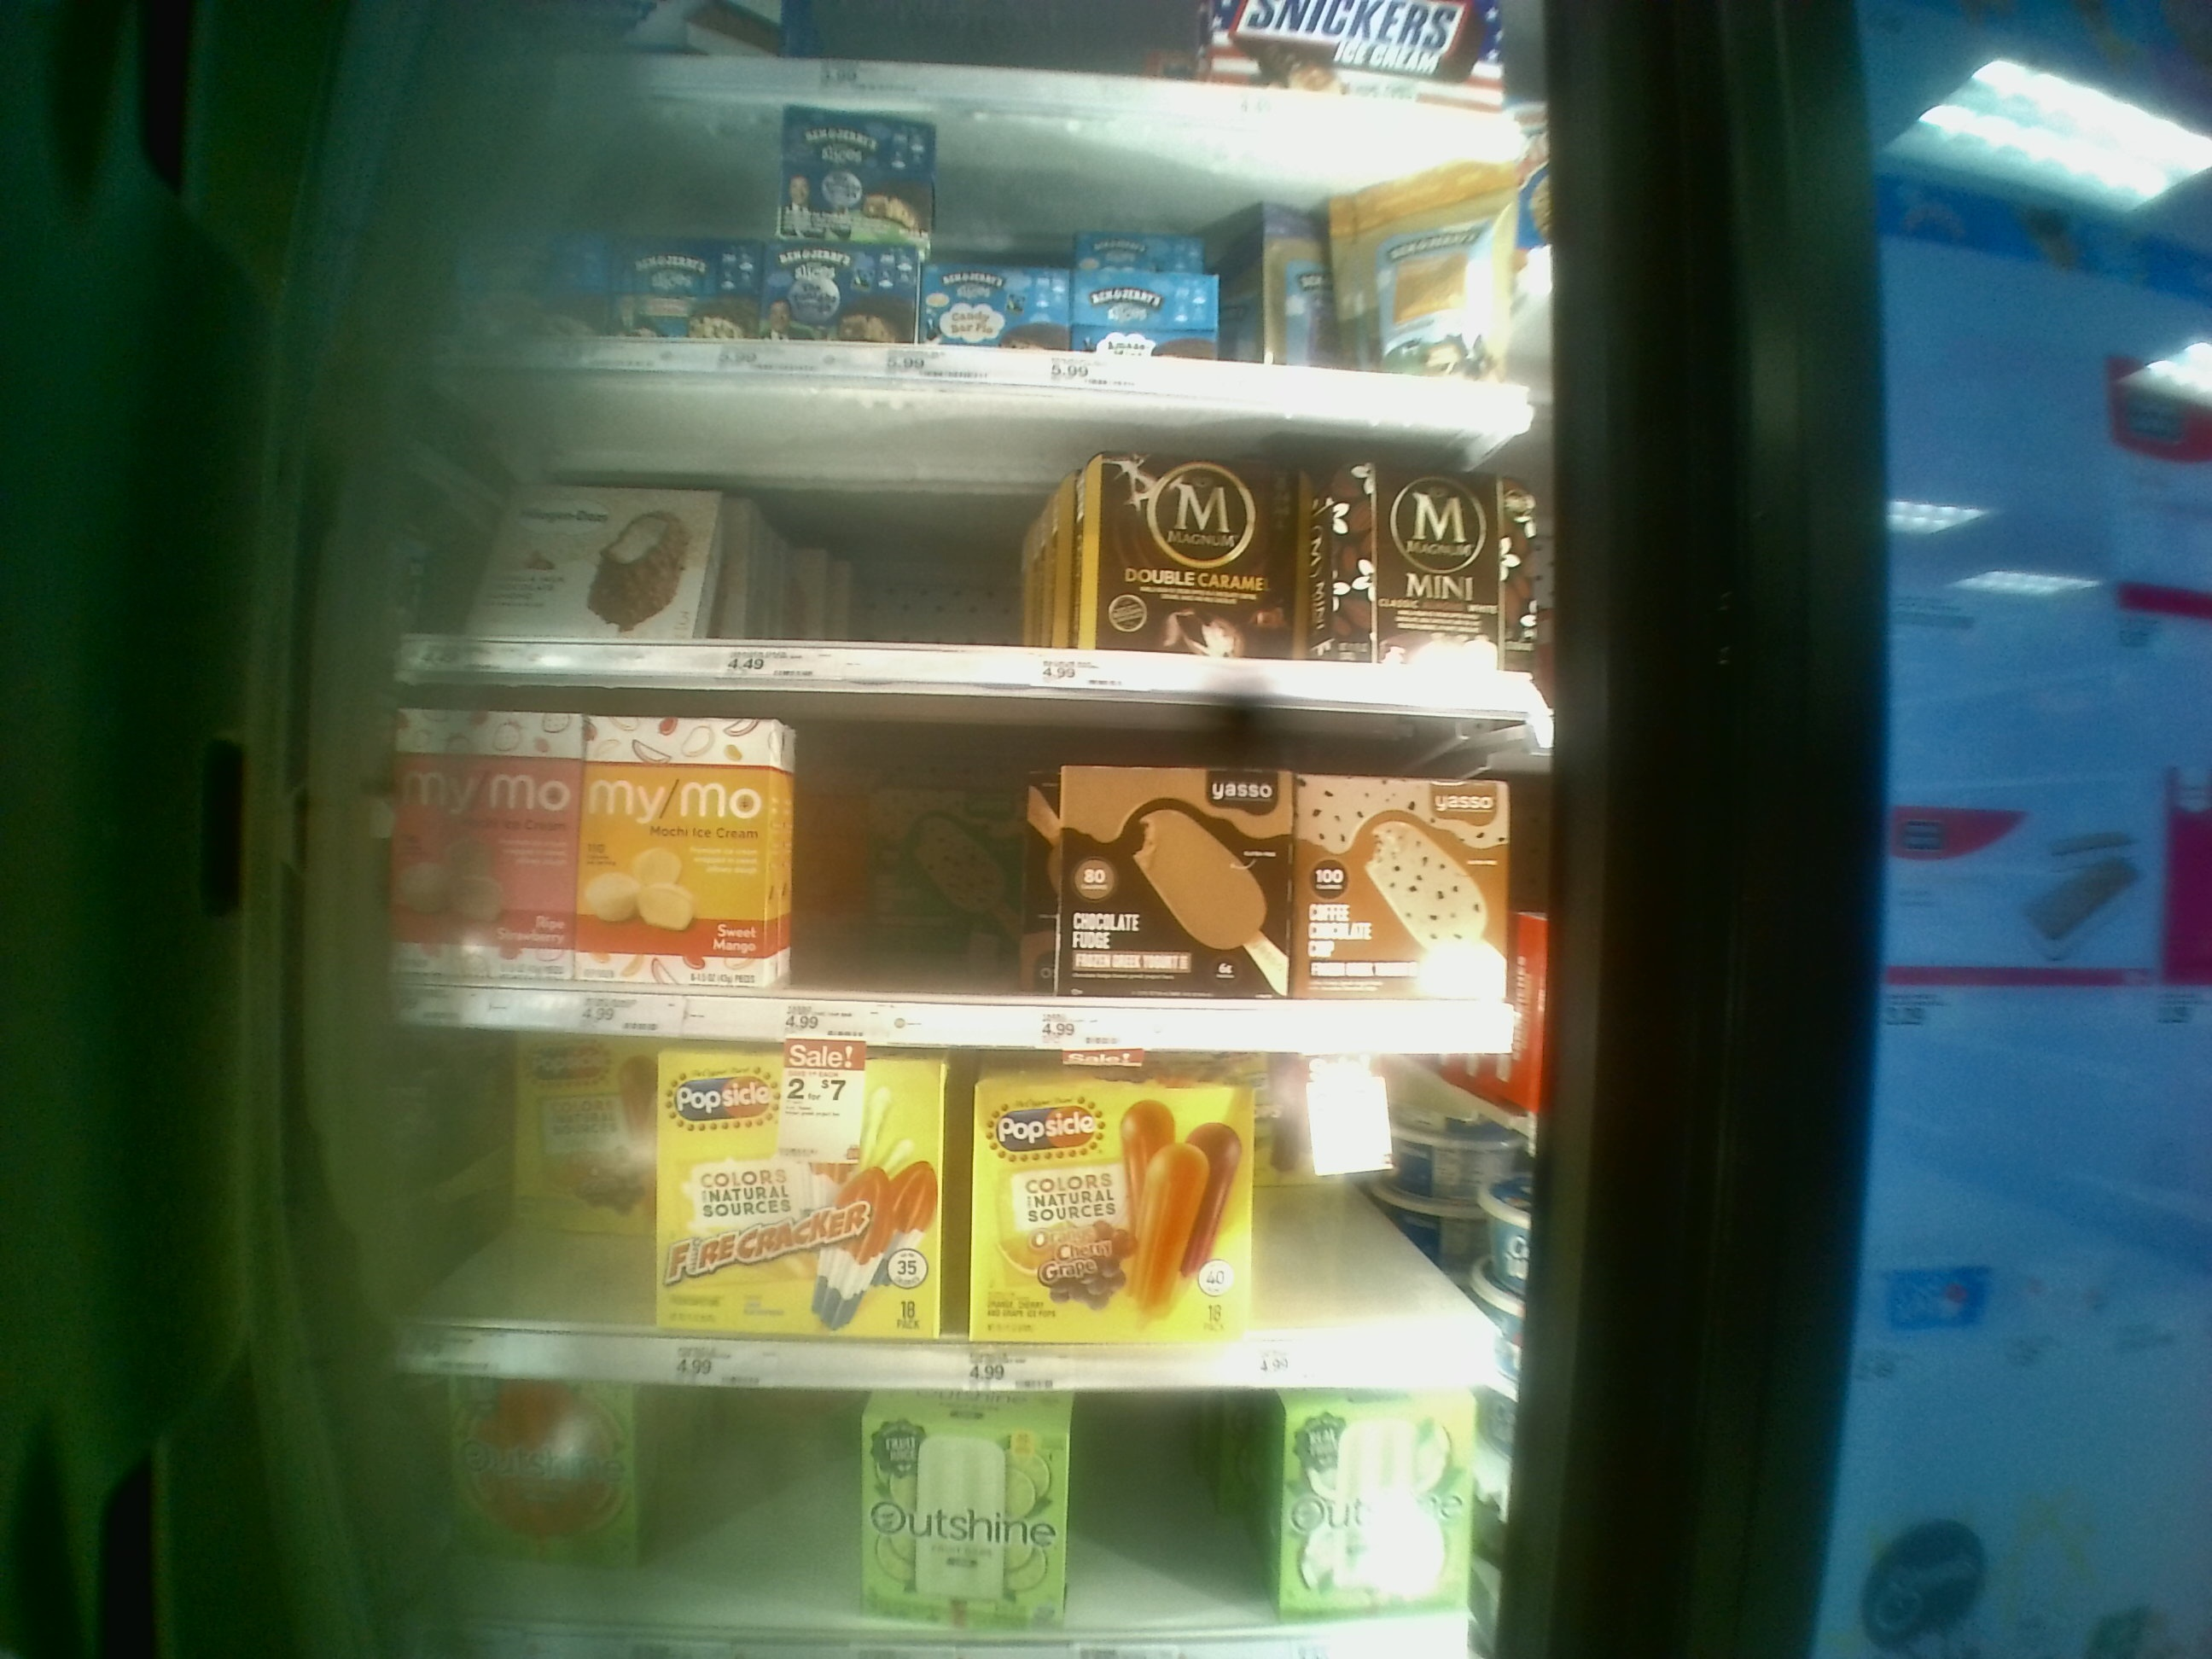ice-cream-shelf: (409, 1033, 1521, 1394), (439, 56, 1554, 415), (411, 376, 1561, 706), (404, 1382, 1503, 1659)
